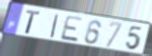5: (124, 25, 145, 51)
6: (83, 20, 102, 46)
7: (104, 21, 125, 49)
E: (59, 15, 85, 44)
I: (50, 13, 60, 39)
T: (24, 9, 41, 36)
